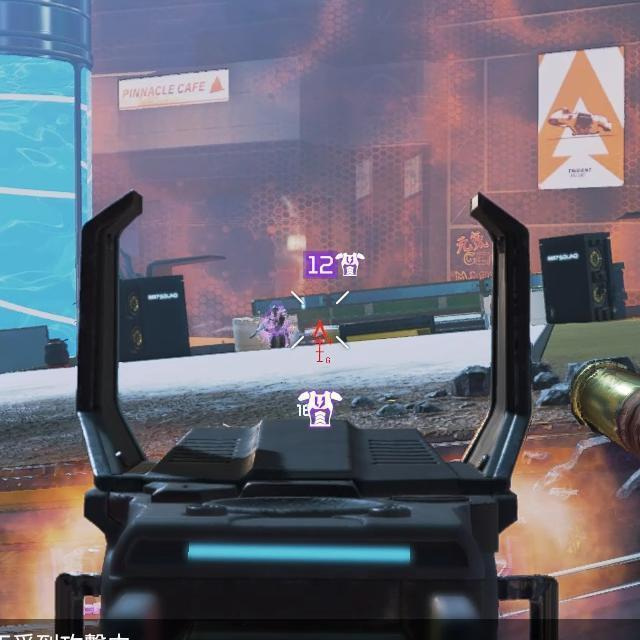avatar: (263, 304, 291, 350)
